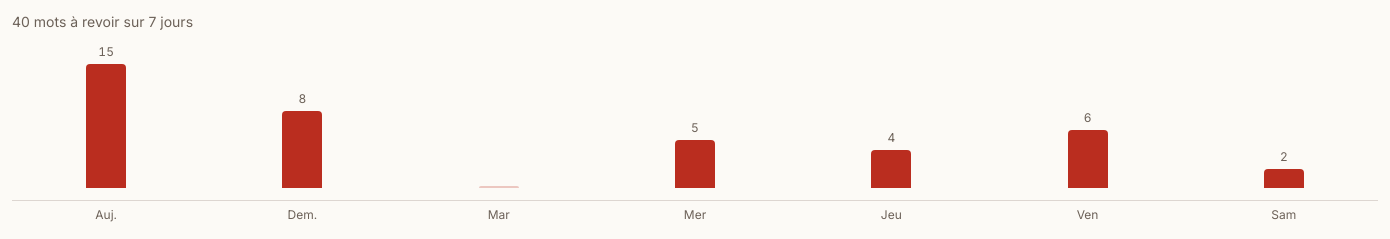
Test case: ReviewForecast › labels days and shows a day's count on hover
Expected: the text "40 mots à revoir sur 7 jours" is shown, x1=12 y1=13 x2=193 y2=30
Expected: the text "Auj." is shown, x1=95 y1=207 x2=117 y2=222
Step 1. Hover over the button named "Demain : 8 mots" → (302, 116), box x1=208 y1=44 x2=397 y2=188
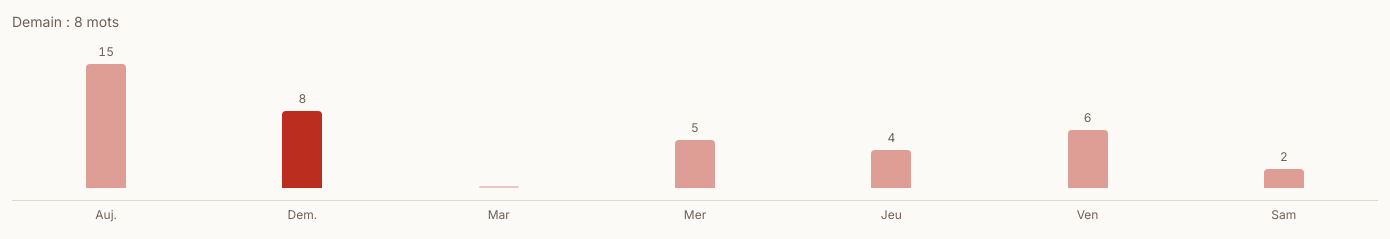
Now the text "Demain : 8 mots" is shown, box x1=12 y1=13 x2=119 y2=30
